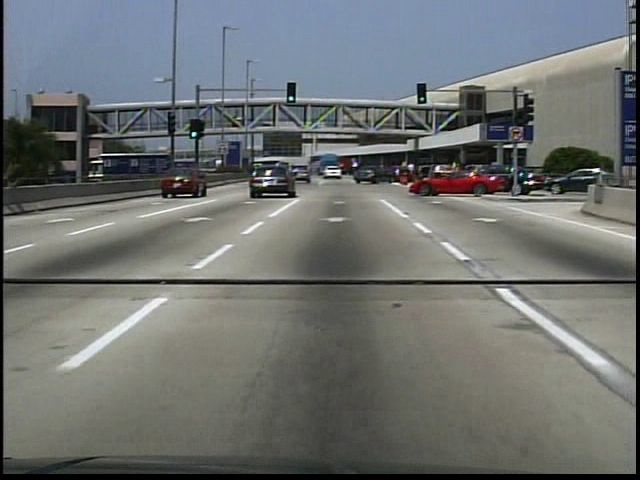person: (406, 162, 417, 185), (231, 117, 240, 132), (434, 164, 442, 180)
